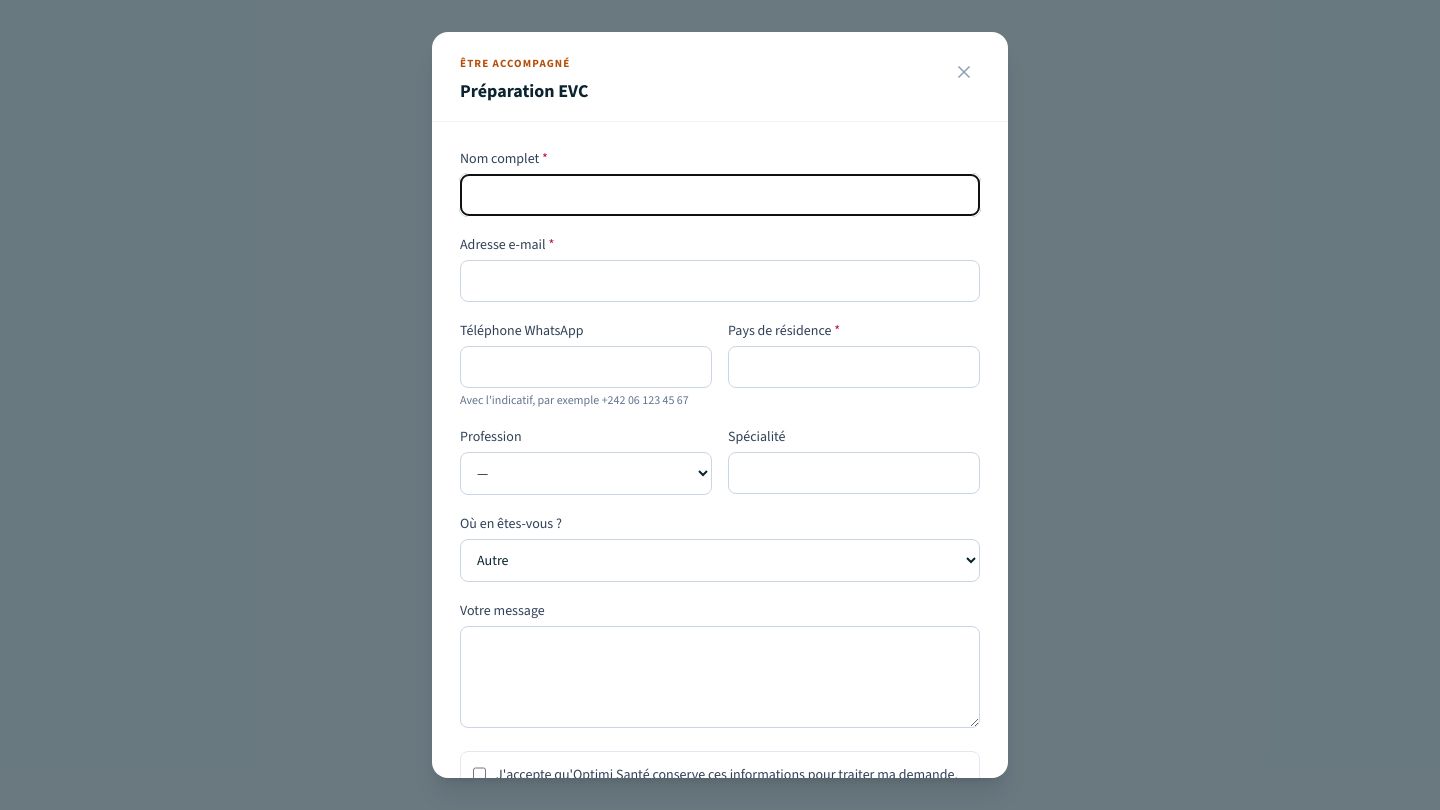
fenêtre de demande › refuse l’envoi sans consentement, et le dit sur la case
Step 1. Type "Dr Nkounkou" into the field labelled "Nom complet *" → (720, 195), box [460,174,980,216]
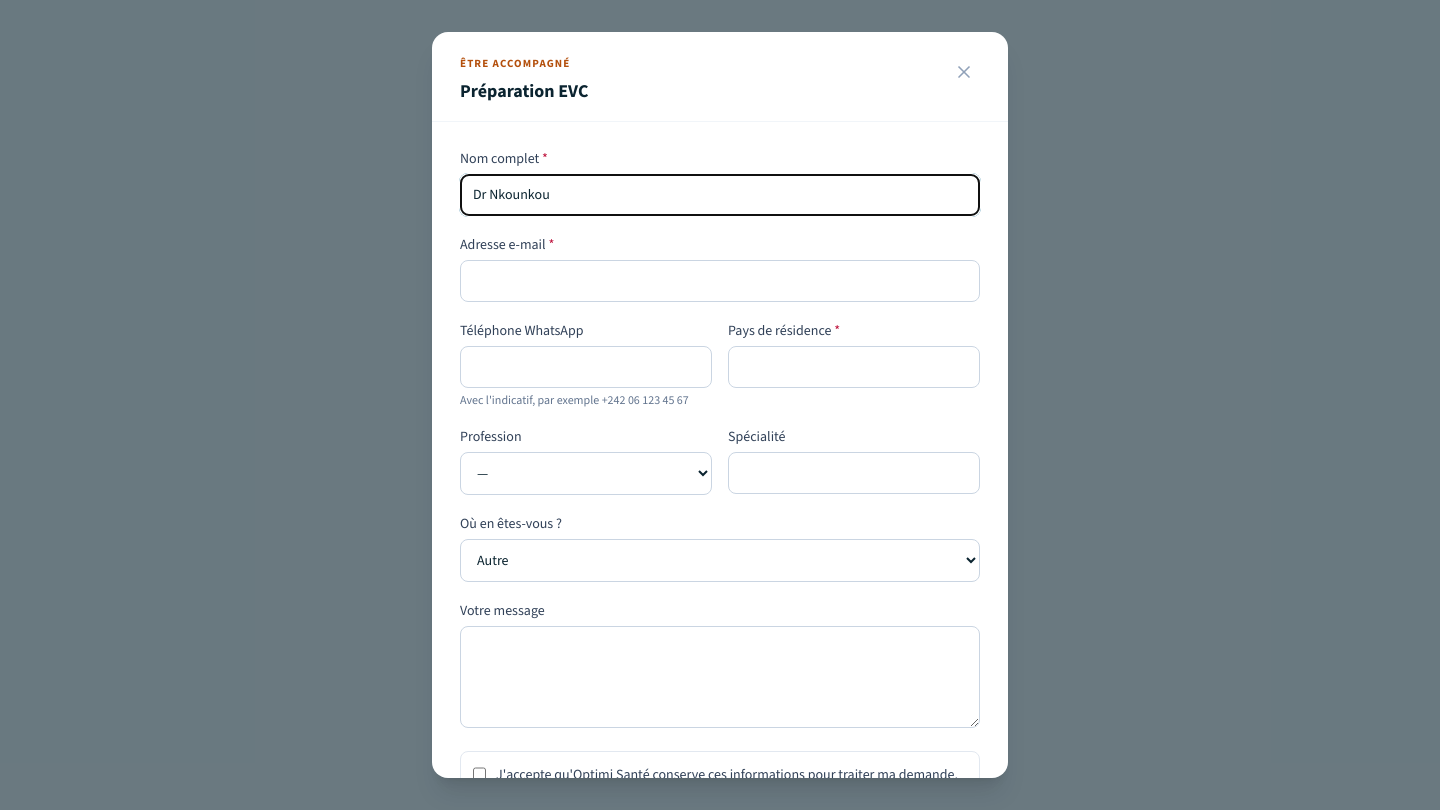
Step 2. Type "n@exemple.cg" into the field labelled "Adresse e-mail *" → (720, 281), box [460,260,980,302]
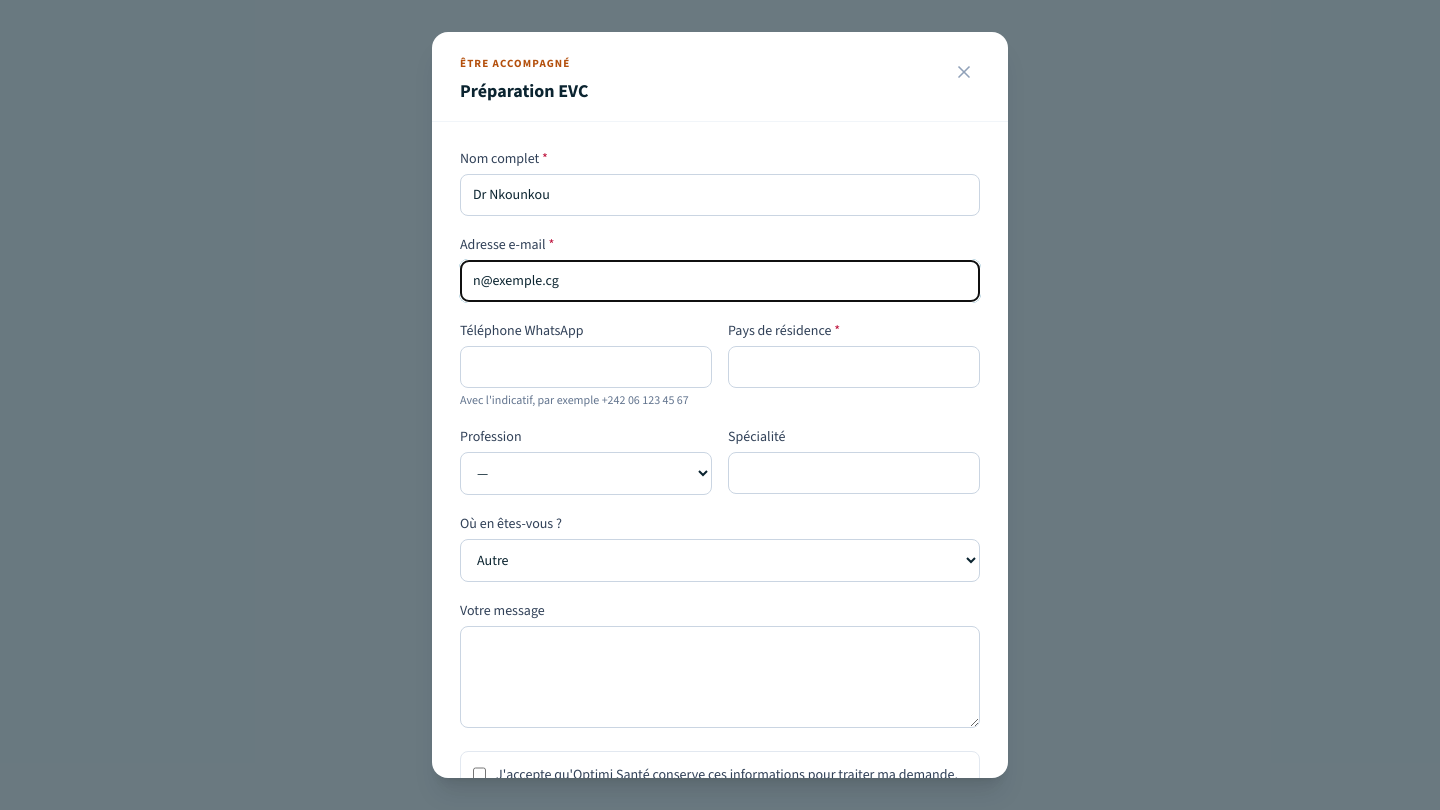
Step 3. Type "Congo" into the field labelled "Pays de résidence *" → (854, 367), box [728,346,980,388]
(page scrolled)
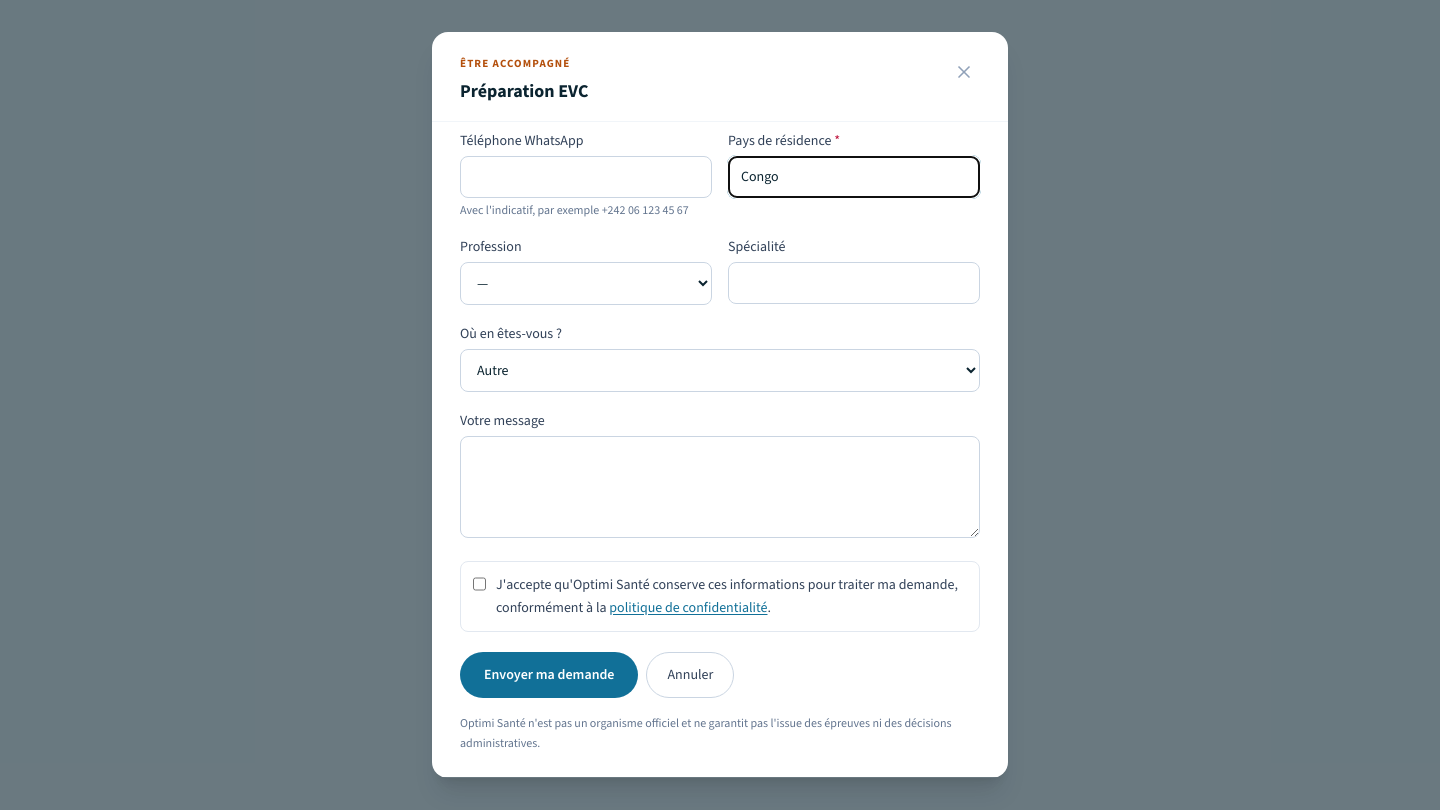
Step 4. Click the button "Envoyer ma demande" → (549, 675), box [460,652,638,698]
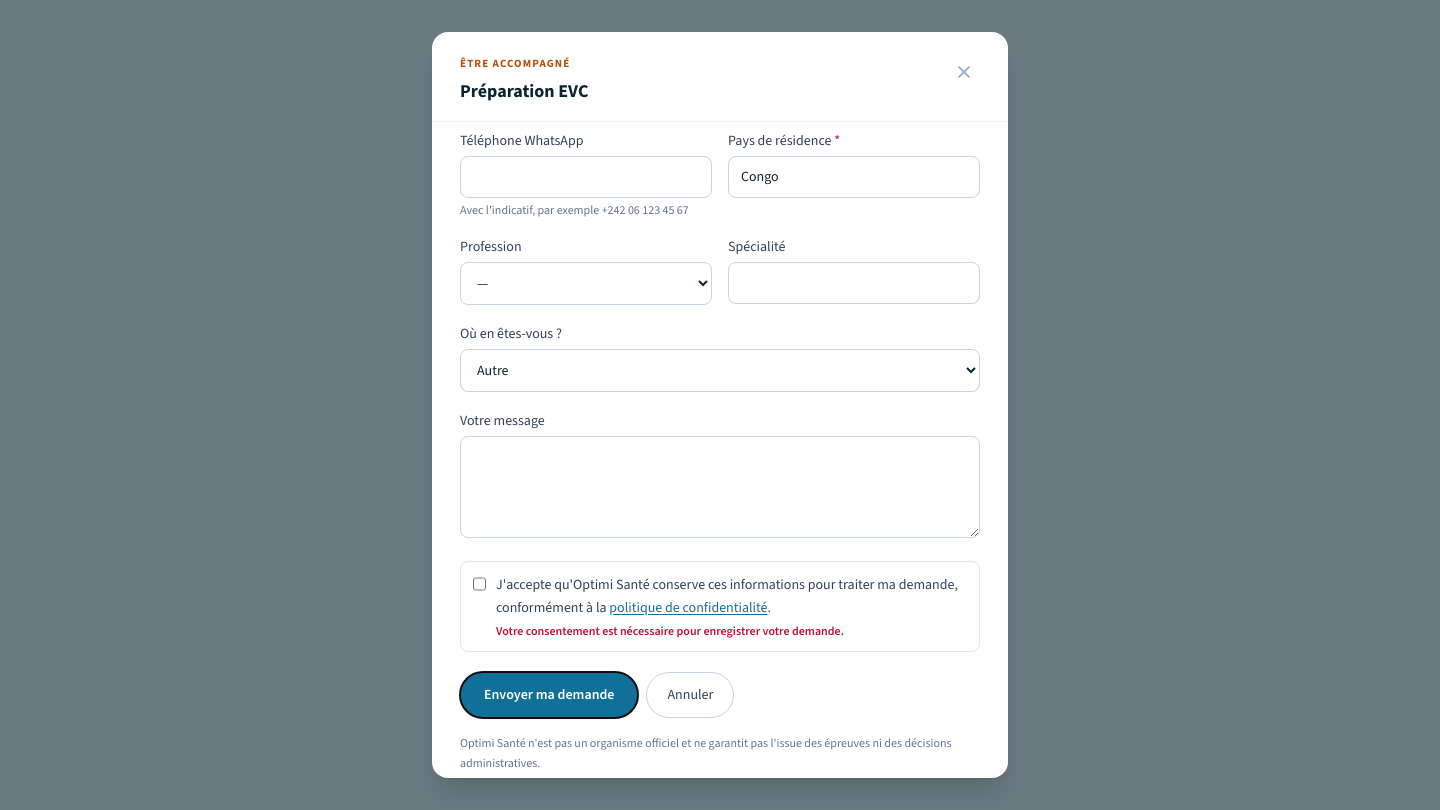
Check: the text "Votre consentement est nécessaire pour enregistrer votre demande." is shown, box [496,623,844,639]
